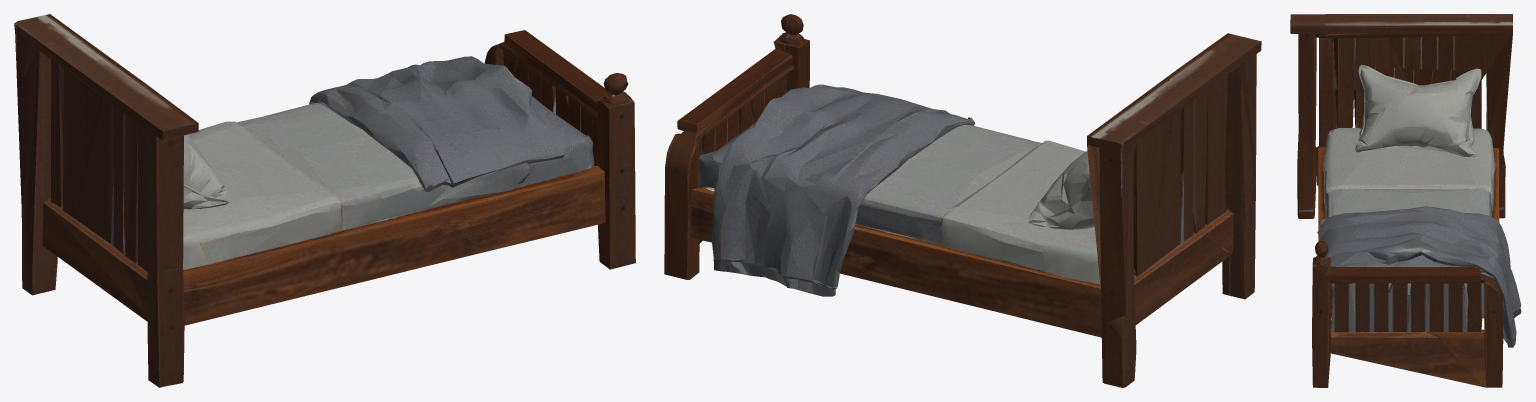
File: bed.glb
3 views of the same model, side by side, from view 1: azimuth 30°, elevation 25°; view 2: azimuth 150°, elevation 25°; view 3: azimuth 270°, elevation 25° (orthographic). The views are drawn at different scales.
Parts seen in each view (by area): view 1: bed; view 2: bed; view 3: bed.
Boxes of the visible parts, bbox=[...] form: bed: bbox=[14, 14, 635, 387]; bed: bbox=[664, 14, 1261, 387]; bed: bbox=[1290, 14, 1521, 387].
Size of the model in its own units: 2.05 by 1.05 by 1.12.
1 material, 1 textured.
